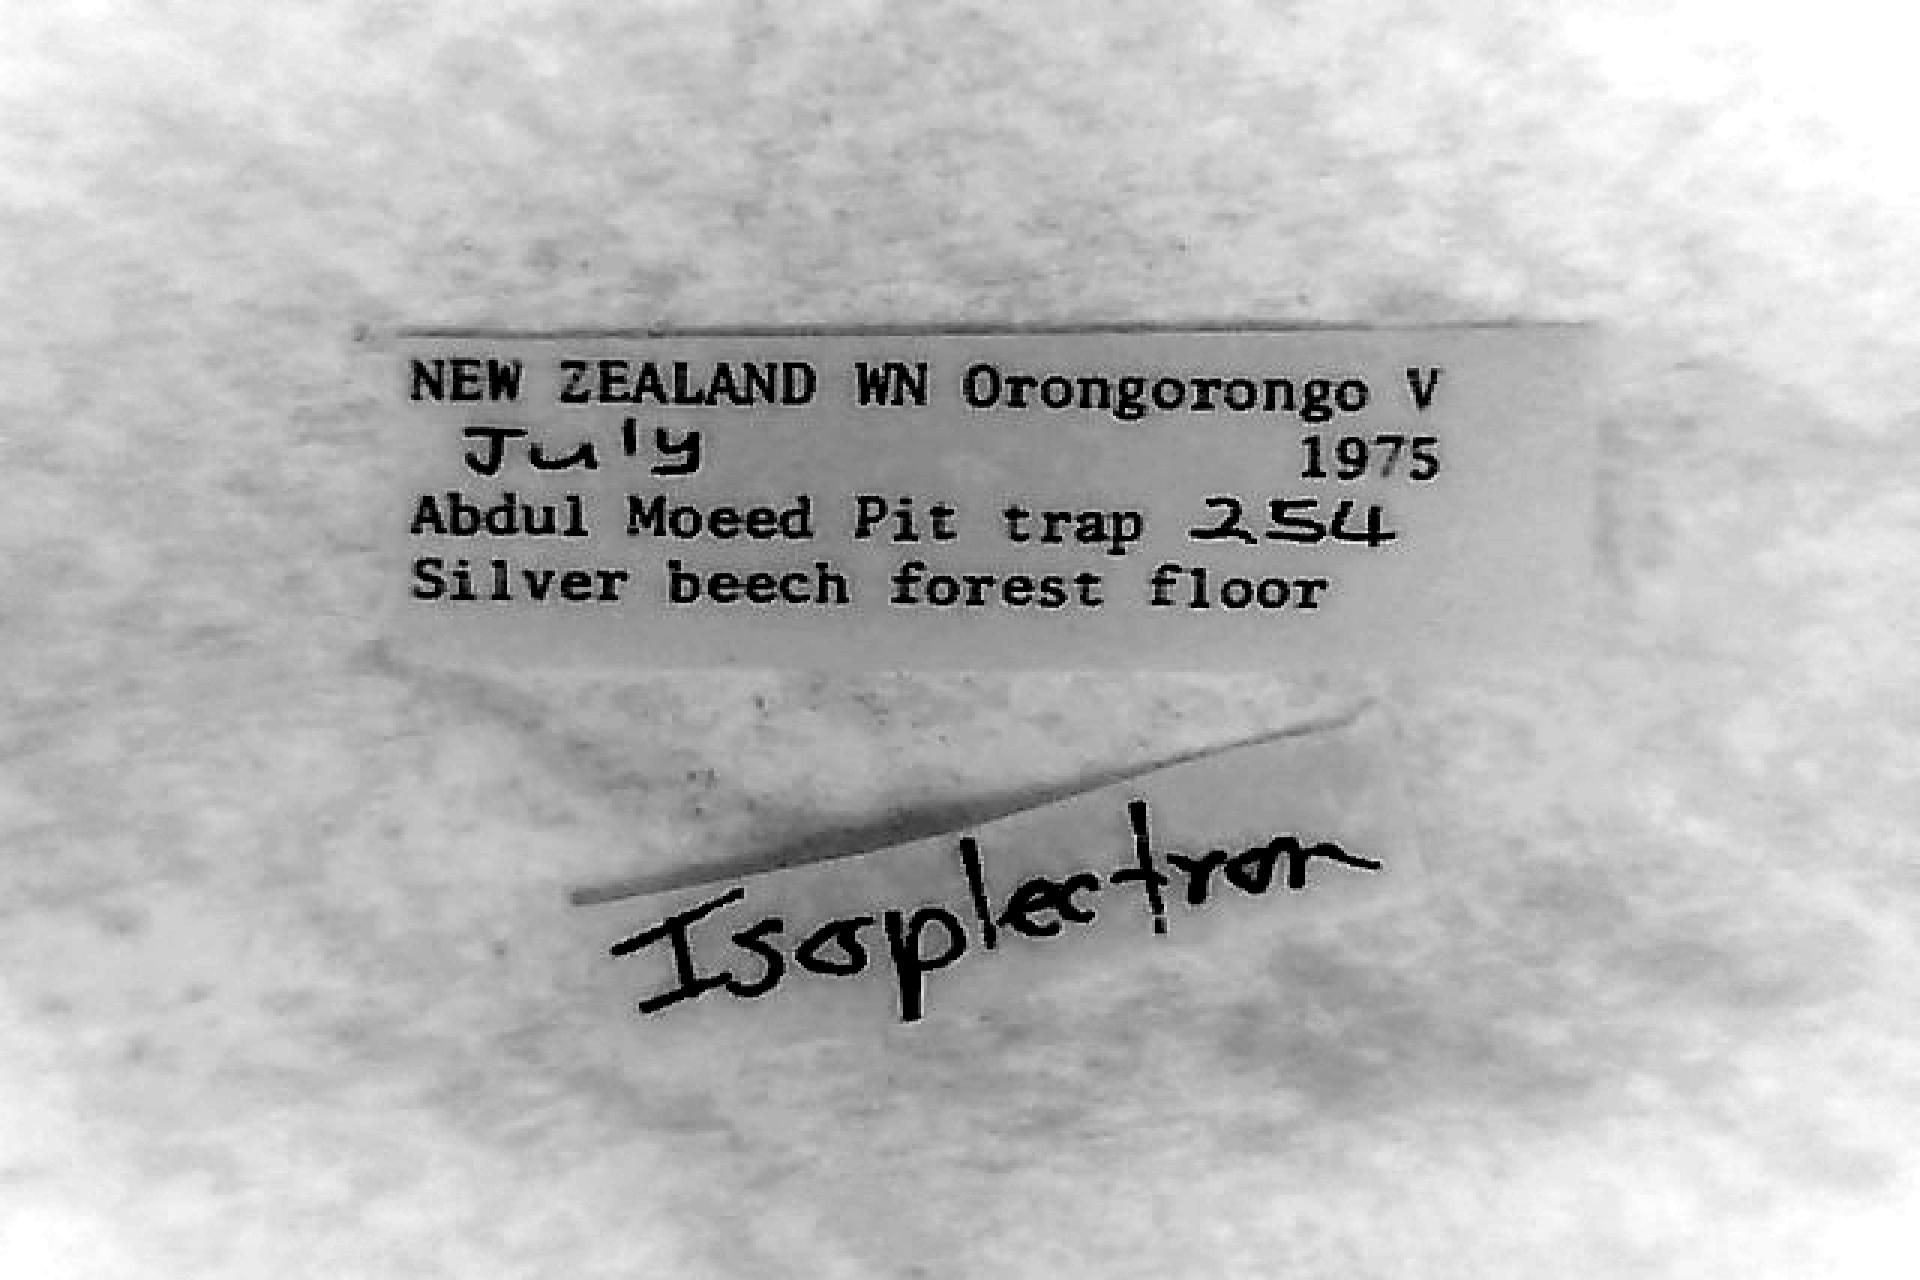hand_label: (581, 713, 1417, 1067)
mixed_label: (383, 330, 1594, 669)
